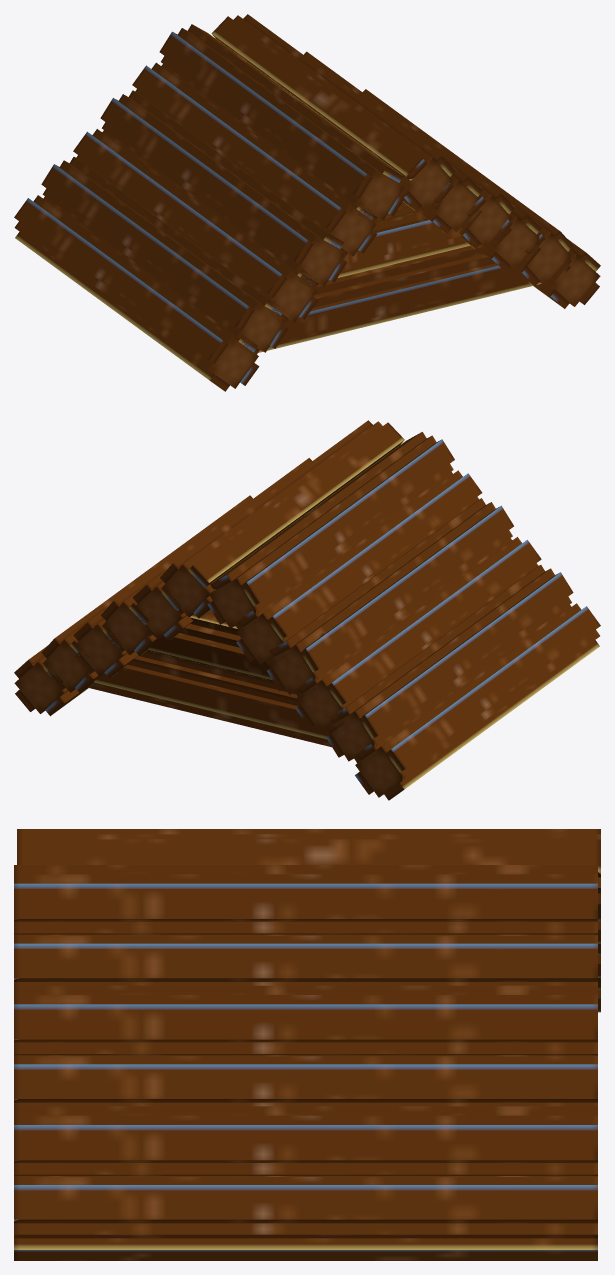
File: home_top.fbx
3 renders of one model, top to bottom at view 1: azimuth 30°, elevation 25°; view 2: azimuth 150°, elevation 25°; view 3: azimuth 270°, elevation 25°, orthographic. The views are drawn at different scales.
Parts seen in each view (by area): view 1: cube_59, cube_18, cube_28, cube_8, cube_3, cube_13, cube_23, cube_73, cube_11, cube_26, cube_16, cube_6 (+24 smaller); view 2: cube_59, cube_18, cube_28, cube_8, cube_23, cube_3, cube_13, cube_11, cube_6, cube_26, cube_16, cube_62 (+24 smaller); view 3: cube_38, cube_43, cube_53, cube_33, cube_58, cube_48, cube_29, cube_56, cube_41, cube_36, cube_46, cube_40 (+10 smaller).
Boxes of the visible parts, left/top/right/bottom form: cube_59: left=211, top=16, right=427, bottom=180; cube_18: left=41, top=164, right=254, bottom=330; cube_28: left=159, top=31, right=372, bottom=197; cube_8: left=100, top=98, right=313, bottom=263; cube_3: left=73, top=131, right=287, bottom=297; cube_13: left=14, top=198, right=228, bottom=363; cube_23: left=132, top=65, right=345, bottom=231; cube_73: left=280, top=262, right=527, bottom=340; cube_11: left=14, top=195, right=258, bottom=388; cube_26: left=161, top=28, right=404, bottom=220; cube_16: left=42, top=160, right=286, bottom=352; cube_6: left=102, top=94, right=345, bottom=286; cube_59: left=188, top=422, right=404, bottom=587; cube_18: left=359, top=572, right=573, bottom=738; cube_28: left=241, top=439, right=454, bottom=605; cube_8: left=300, top=505, right=513, bottom=672; cube_23: left=267, top=473, right=482, bottom=639; cube_3: left=326, top=540, right=541, bottom=705; cube_13: left=386, top=606, right=600, bottom=772; cube_11: left=355, top=603, right=599, bottom=797; cube_6: left=268, top=502, right=512, bottom=694; cube_26: left=209, top=435, right=453, bottom=628; cube_16: left=327, top=568, right=571, bottom=761; cube_62: left=94, top=664, right=330, bottom=739; cube_38: left=14, top=1004, right=597, bottom=1042; cube_43: left=14, top=1185, right=597, bottom=1223; cube_53: left=14, top=943, right=597, bottom=981; cube_33: left=14, top=1064, right=597, bottom=1102; cube_58: left=14, top=883, right=597, bottom=921; cube_48: left=14, top=1125, right=597, bottom=1162; cube_29: left=17, top=839, right=600, bottom=877; cube_56: left=14, top=874, right=597, bottom=934; cube_41: left=14, top=1177, right=597, bottom=1238; cube_36: left=14, top=995, right=597, bottom=1055; cube_46: left=14, top=1115, right=597, bottom=1175; cube_40: left=14, top=1238, right=597, bottom=1260.
Size of the model in its own units: 349 by 158 by 303.
1 material, 1 textured.
